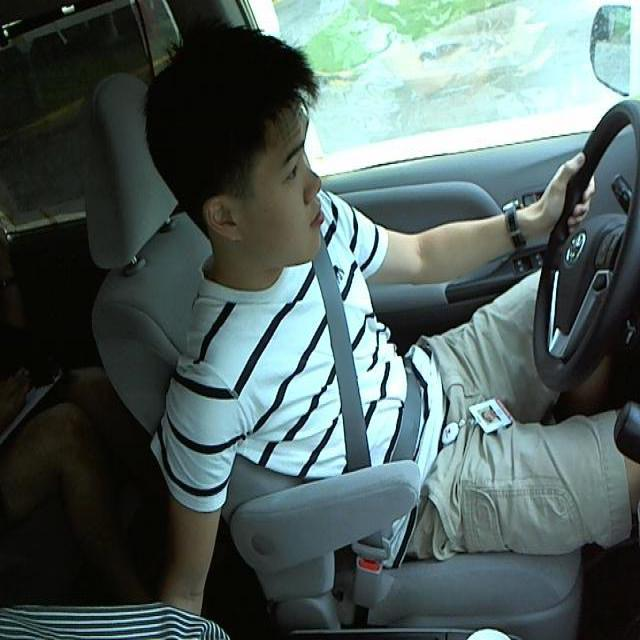seatbelt: (301, 271, 432, 449)
